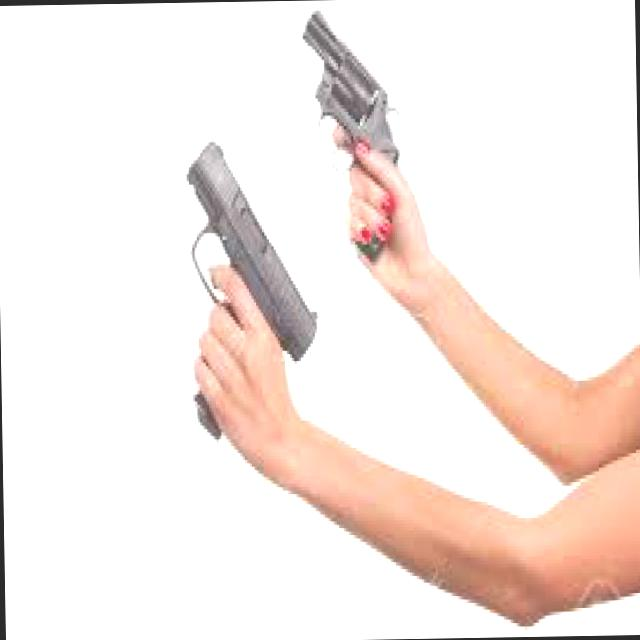handgun: (172, 137, 318, 440), (295, 6, 403, 252)
